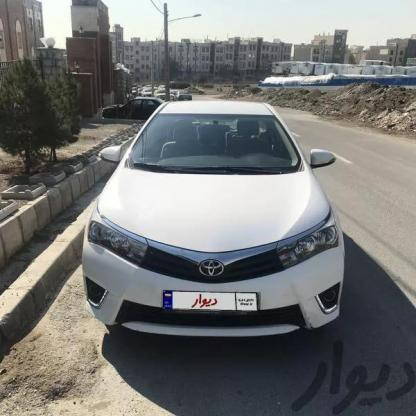Car: (80, 94, 344, 344), (95, 94, 153, 124)
